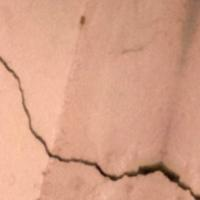crack: (2, 54, 199, 199)
